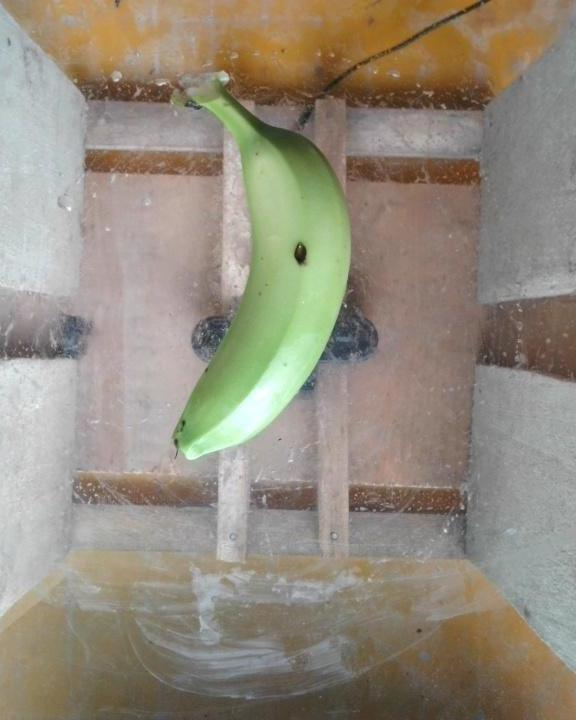CLASS B: (165, 68, 361, 470)
Class A: (285, 233, 317, 268)
